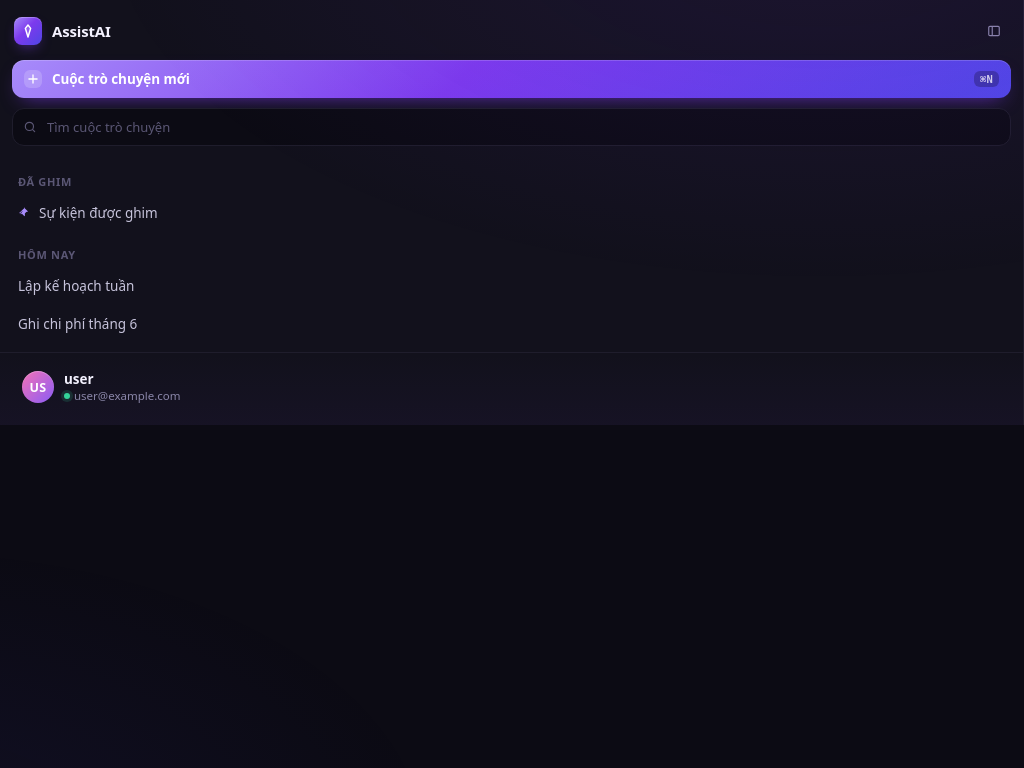
Sidebar — search › filters conversations by search query
The width and height of the screenshot is (1024, 768).
Type "chi phí" into the field with placeholder "Tìm cuộc trò chuyện". click: (522, 127)
box: x1=45 y1=117 x2=1000 y2=137
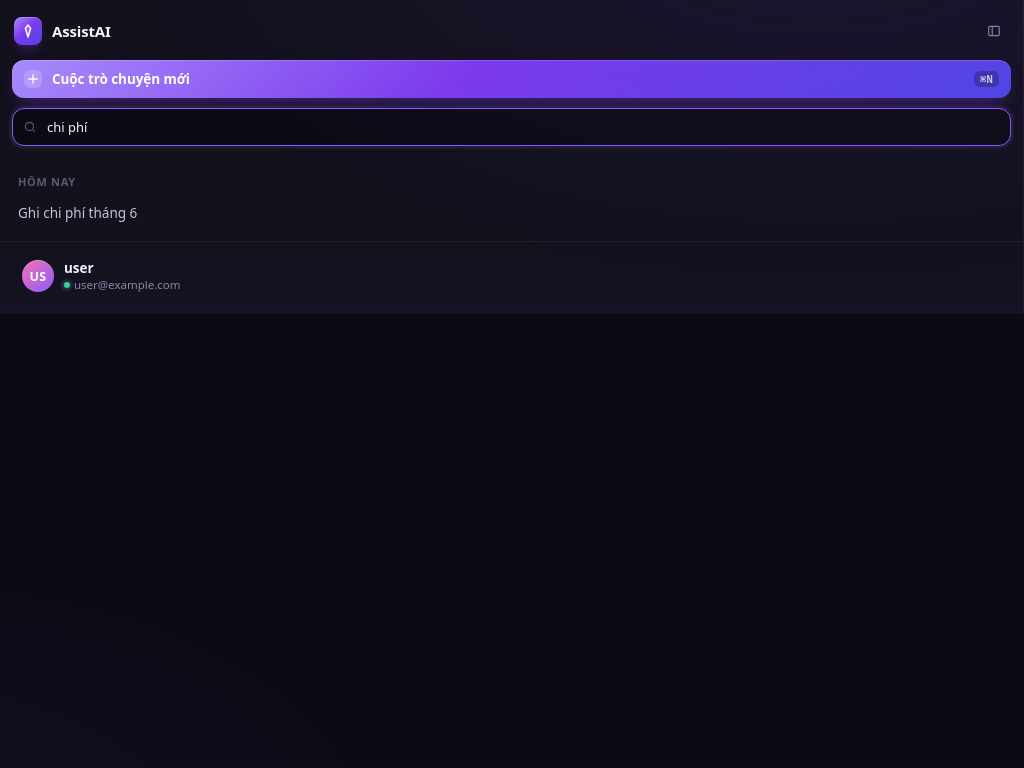
Check: the text "Ghi chi phí tháng 6" is shown, box x1=18 y1=204 x2=137 y2=222
Check: the text "Lập kế hoạch tuần" is gone
